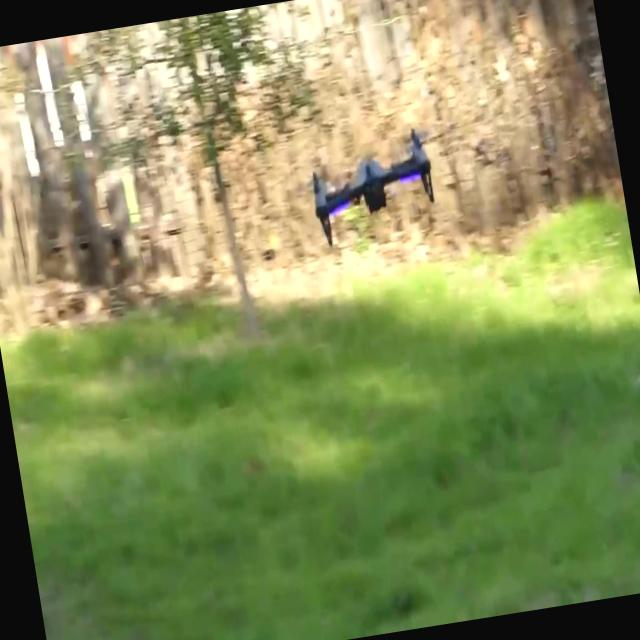drone: (304, 123, 444, 250)
